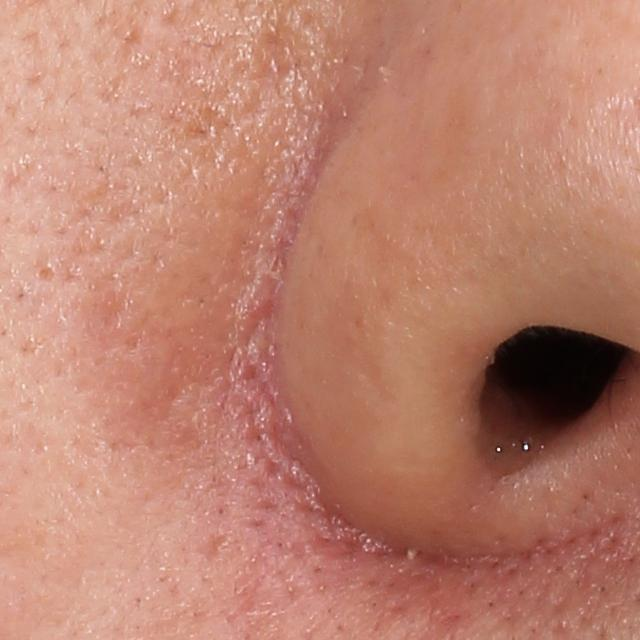atrophic_scar: (244, 18, 299, 80), (190, 529, 234, 566)
comedo: (33, 259, 59, 285)
